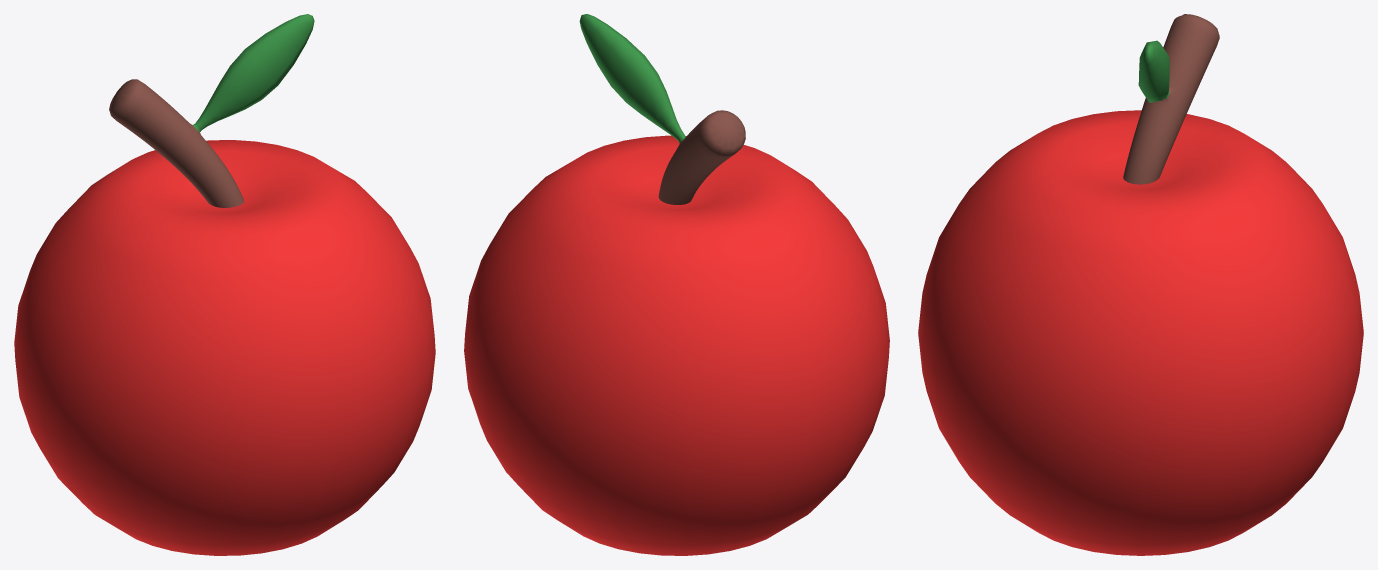
The model's file is Apple.fbx.
3 views of the same model, side by side, from view 1: azimuth 30°, elevation 25°; view 2: azimuth 150°, elevation 25°; view 3: azimuth 270°, elevation 25° (orthographic). The views are drawn at different scales.
Visible parts, largest first — view 1: Apple; view 2: Apple; view 3: Apple.
Boxes of the visible parts, x1=… form: Apple: x1=14, y1=14, x2=435, y2=555; Apple: x1=464, y1=14, x2=889, y2=555; Apple: x1=918, y1=14, x2=1363, y2=555.
Bounding box in the file's own units: 217 × 270 × 213.
